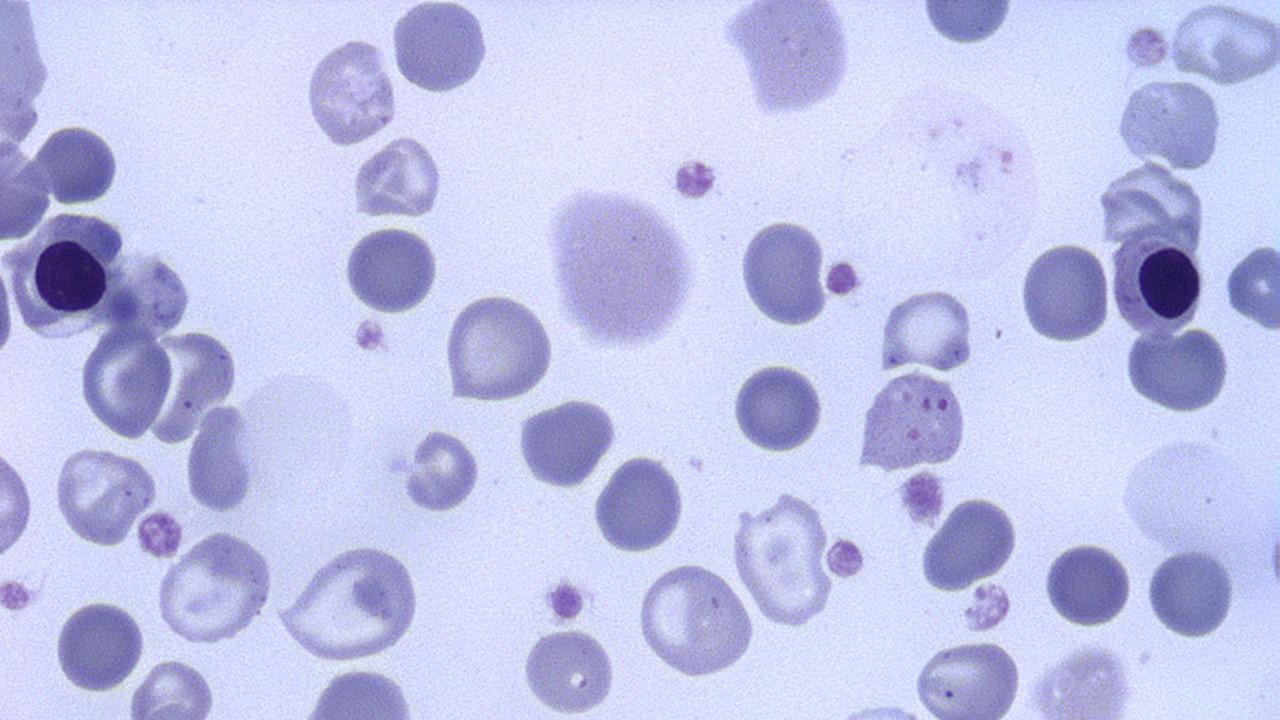Platelets: (896, 468, 946, 524), (669, 154, 722, 205), (542, 573, 593, 625)
RBC: (536, 182, 705, 356), (273, 542, 424, 662), (728, 487, 846, 629), (729, 1, 857, 123), (1114, 436, 1244, 554), (634, 559, 757, 679), (153, 529, 275, 648), (442, 289, 559, 405), (852, 366, 970, 475), (300, 30, 402, 150), (1120, 323, 1236, 420), (78, 325, 174, 440), (50, 446, 157, 549), (736, 216, 832, 330), (590, 451, 691, 556), (1112, 79, 1226, 172), (1094, 160, 1206, 254), (1017, 237, 1111, 347), (514, 395, 620, 492), (916, 496, 1020, 592), (388, 2, 494, 96), (517, 623, 622, 717), (728, 358, 828, 456), (51, 594, 149, 693), (339, 223, 443, 316), (1167, 2, 1279, 87), (1142, 544, 1238, 641), (909, 638, 1027, 716), (1028, 638, 1142, 718), (1043, 538, 1135, 631), (880, 286, 976, 374), (351, 135, 447, 221), (183, 404, 256, 515), (400, 427, 483, 514), (40, 120, 122, 207), (124, 654, 218, 716), (1224, 238, 1280, 334), (915, 1, 1020, 50), (1, 442, 35, 564), (0, 252, 17, 376)
WBC: (17, 210, 123, 340), (1109, 215, 1205, 344)
